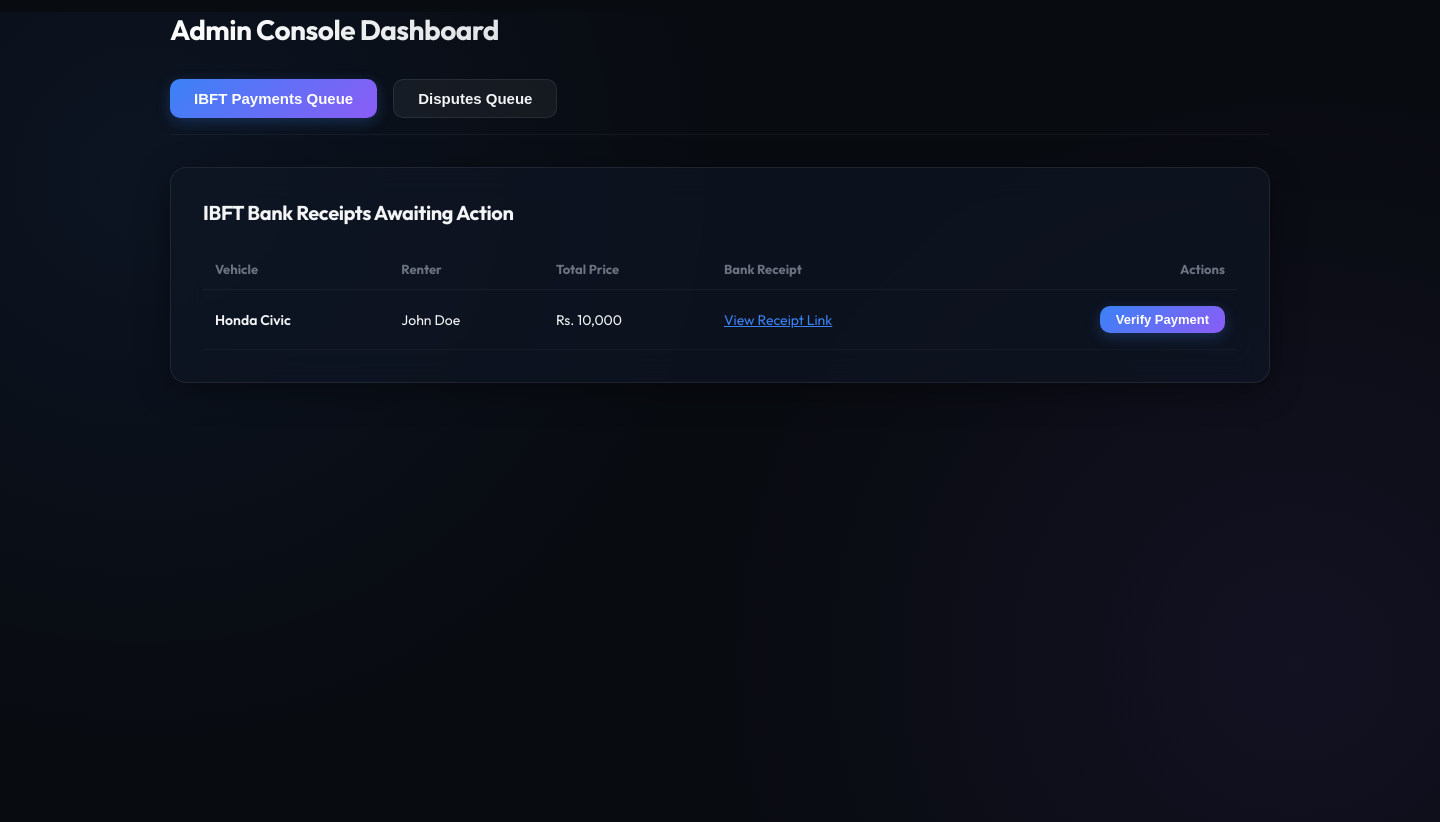
Test case: Admin Console Page › renders admin panel correctly when role is ADMIN
Check: the heading "Admin Console Dashboard" is shown, box top-left (170, 12), bottom-right (1270, 47)
Check: the button "IBFT Payments Queue" is shown, box top-left (170, 79), bottom-right (377, 118)
Toggle Tab Disputes
Step 1. Click the button "Disputes Queue" → (475, 98), box top-left (393, 79), bottom-right (557, 118)
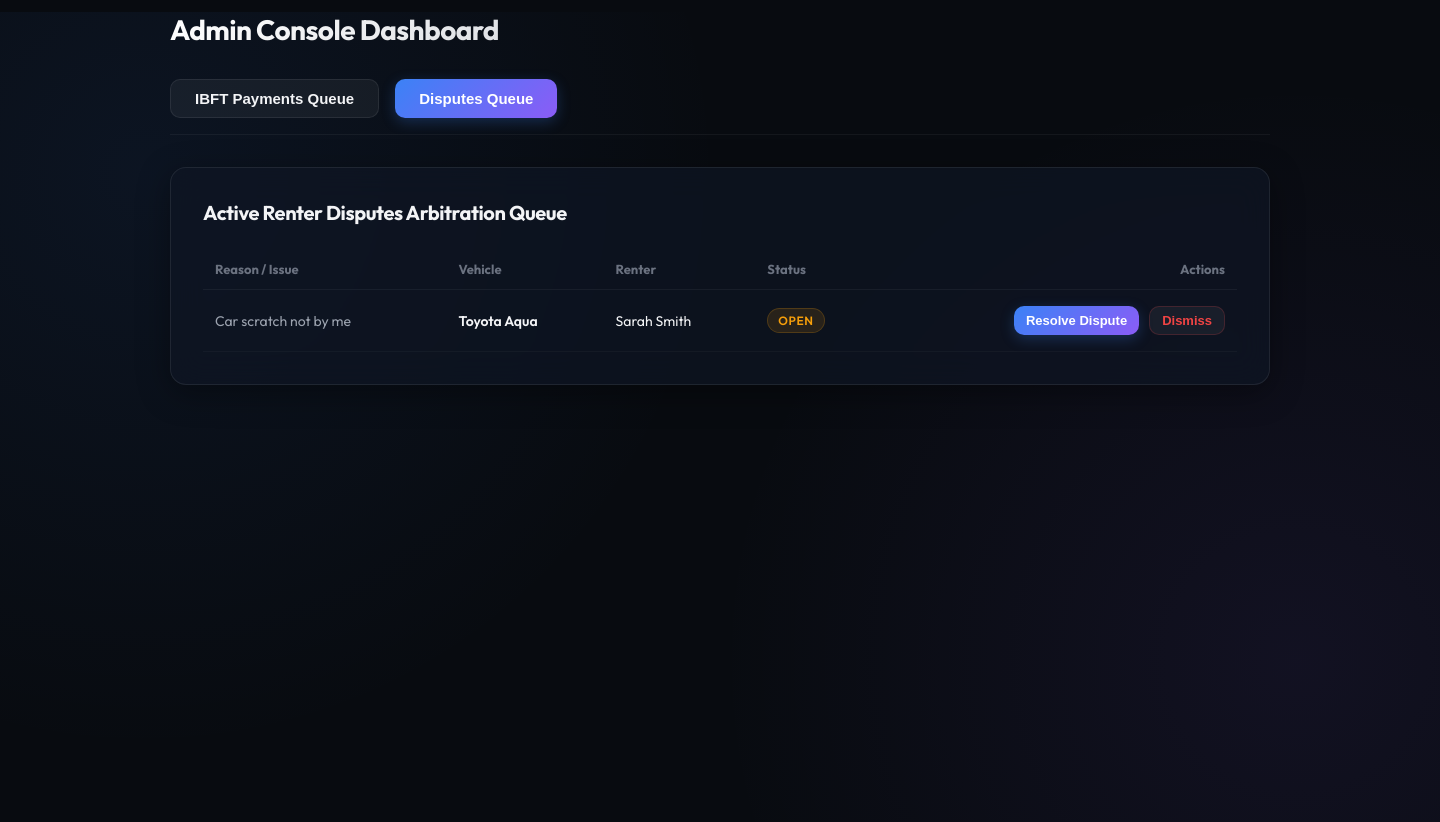
Check: the text "Car scratch not by me" is shown, box top-left (203, 290), bottom-right (447, 352)
Check: the text "Toyota Aqua" is shown, box top-left (447, 290), bottom-right (604, 352)
Check: the button "Resolve Dispute" is shown, box top-left (1014, 306), bottom-right (1139, 335)
